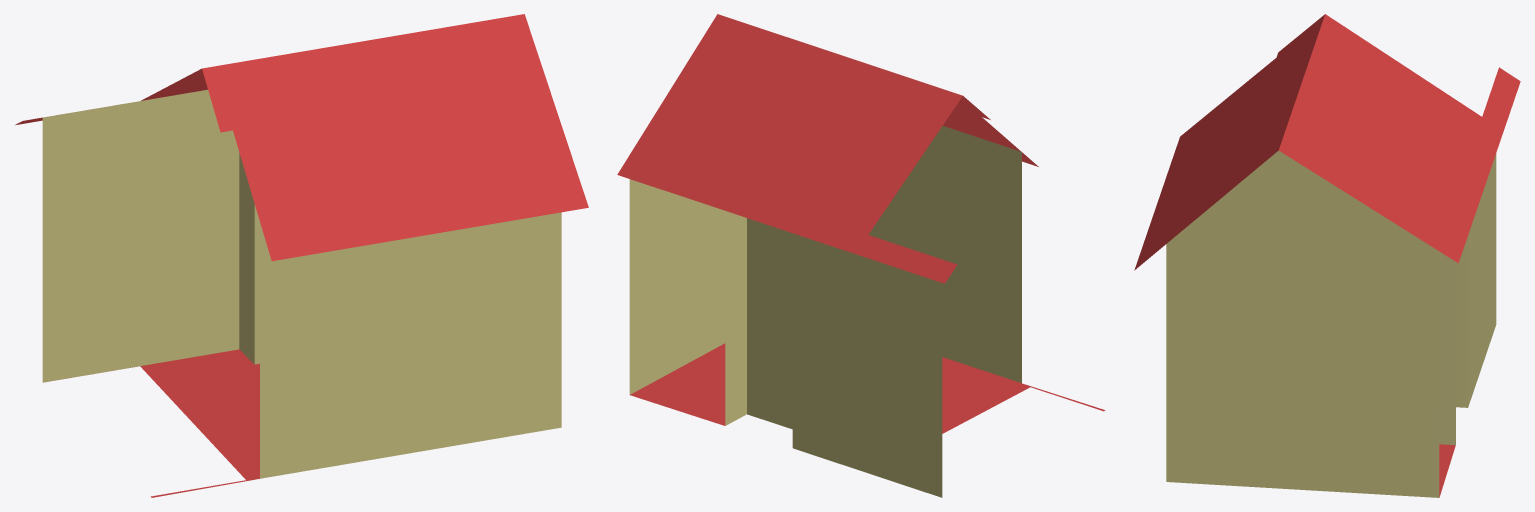
3 views of the same model, side by side, from view 1: azimuth 30°, elevation 25°; view 2: azimuth 150°, elevation 25°; view 3: azimuth 270°, elevation 25° (orthographic). The views are drawn at different scales.
Size of the model in its own units: 16.75 by 14.28 by 13.94.
